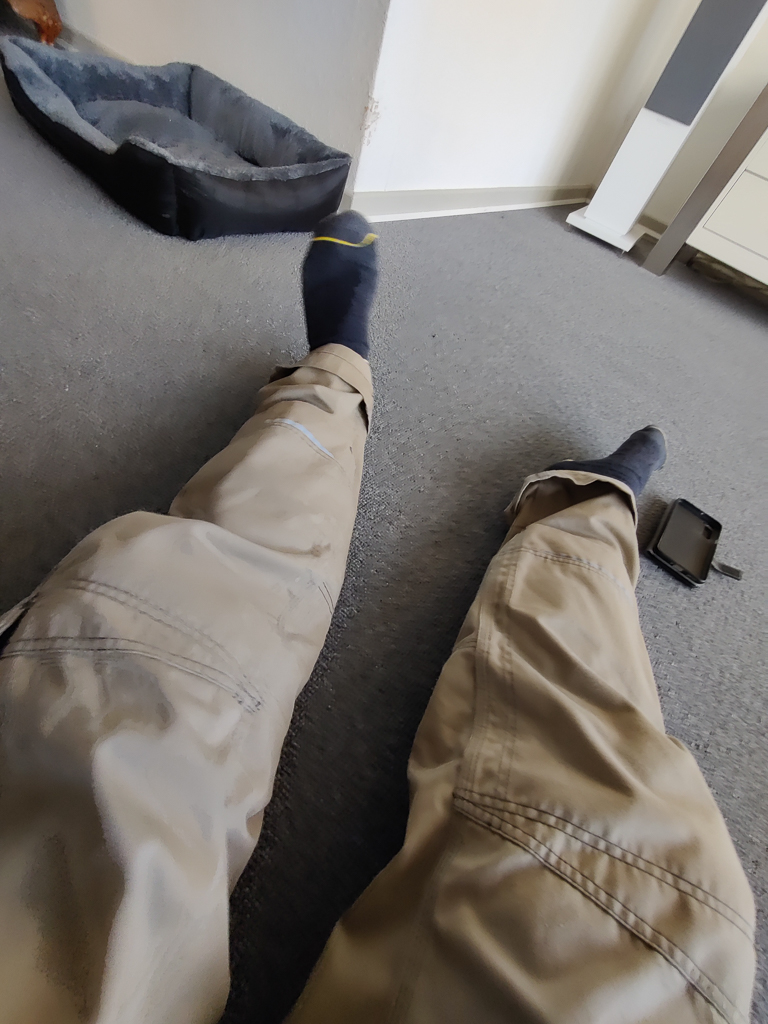Humanoid: (0, 198, 761, 1024)
